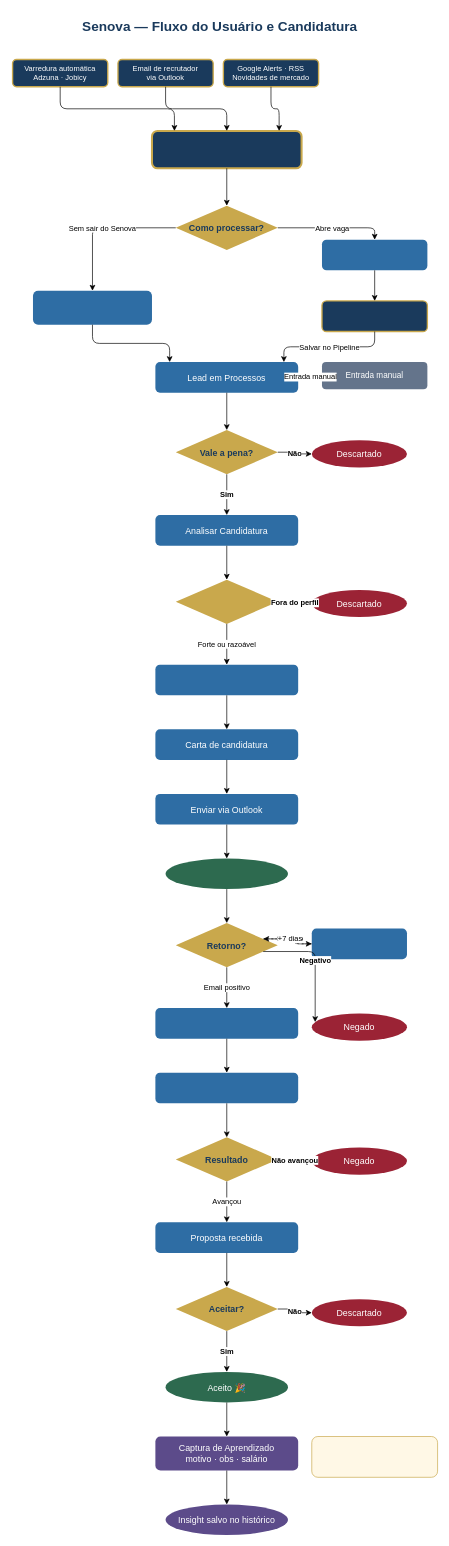
Image size: 449x1546. Some labels were removed from this diagram. The shapes that lost their labels are listed below. From the top down, each one's centre as x and y in pixels, then its label:
the point at 226,149: 🏠 Home — O que há de novo
the point at 374,254: Abre vaga no job board
the point at 92,307: Sem sair do Senova + Adicionar ao Processos
the point at 374,316: Extensão Chrome score + veredicto
the point at 226,601: Score ATS
the point at 226,679: CV Otimizado
the point at 226,873: Aplicado ✓
the point at 359,943: Follow-up +7 dias
the point at 226,1023: Entrevista agendada
the point at 226,1087: Preparar com Sofia briefing + simulação
the point at 374,1456: ⚑ Negado e Descartado também acionam a Captura de Aprendizado
